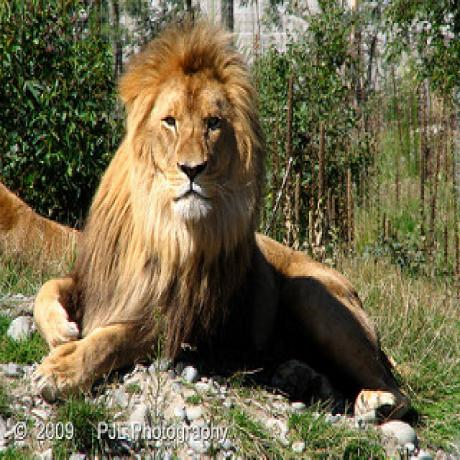Lion: (33, 16, 410, 426)
